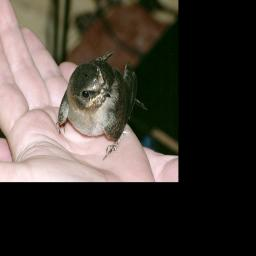Swallow: (56, 50, 150, 164)
